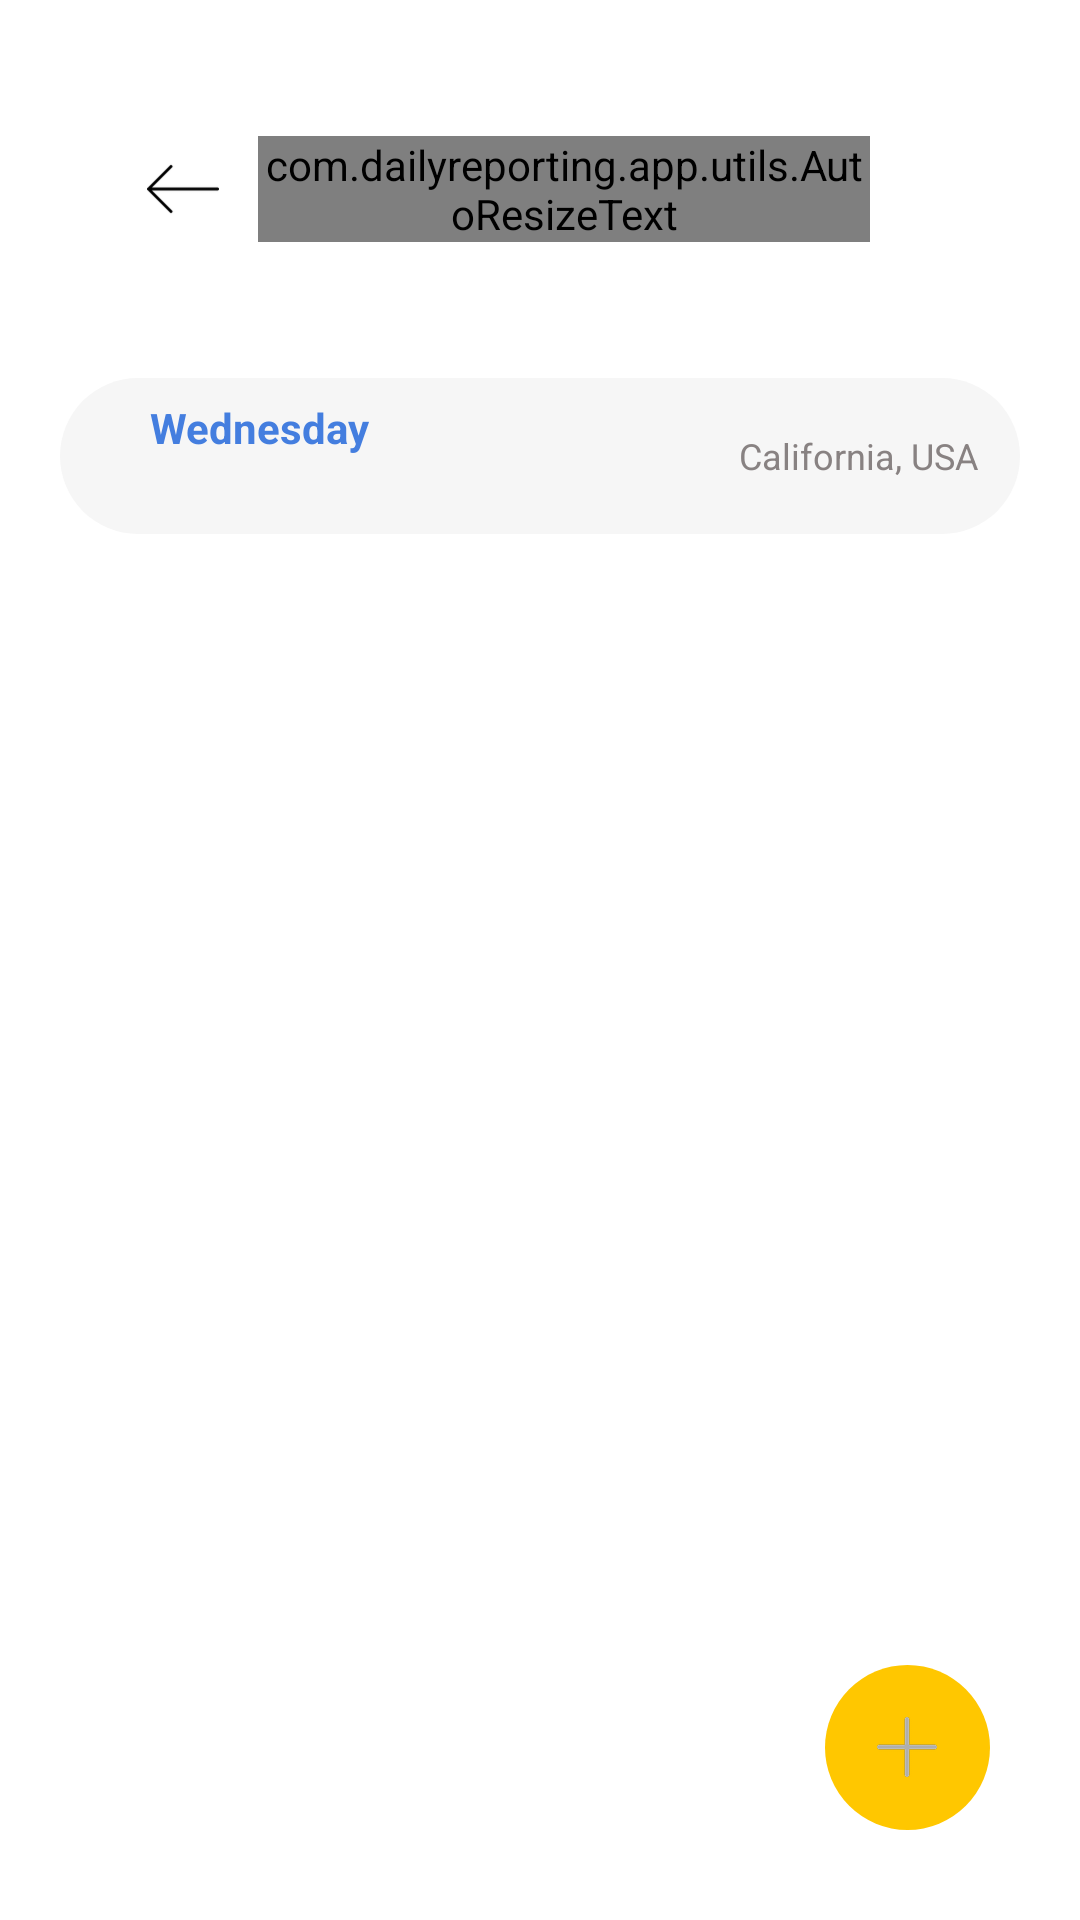

Screen size 1080 × 1920. Icon name, then its center in pixels as (x=x, y=y):
add: (x=907, y=1747)
backarrow: (x=183, y=189)
